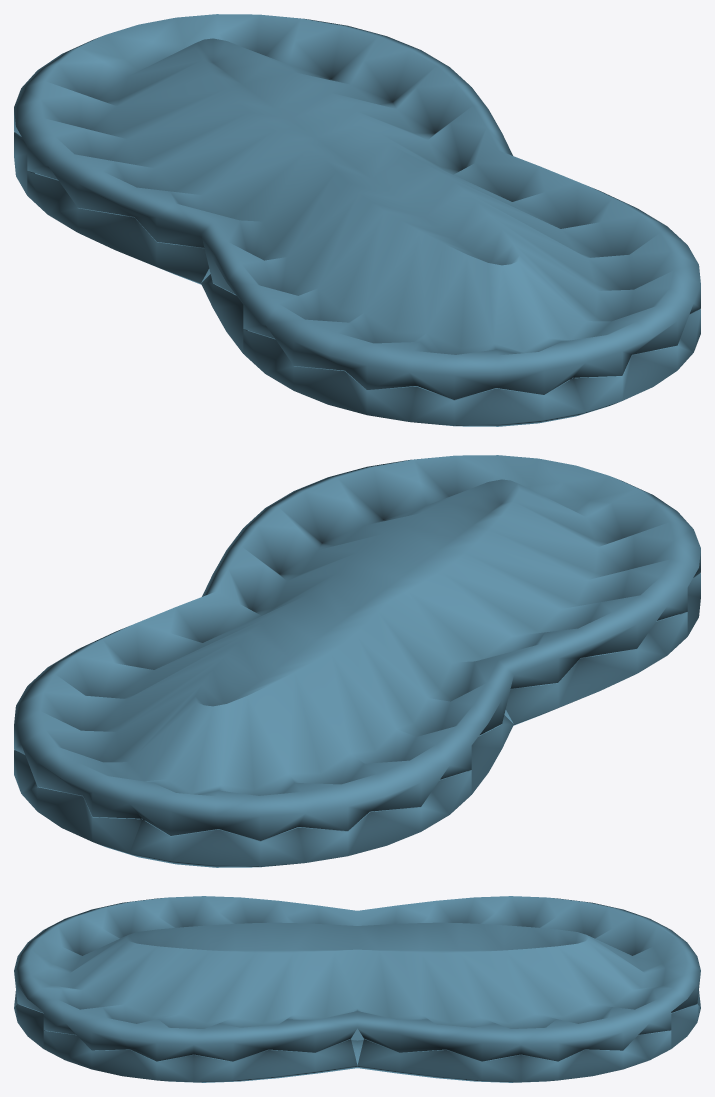
Rendered from microscopic-plankton-pennate-diatom_v1.glb.
3 views of the same model, one above another, from view 1: azimuth 30°, elevation 25°; view 2: azimuth 150°, elevation 25°; view 3: azimuth 270°, elevation 25° (orthographic). The views are drawn at different scales.
Parts seen in each view (by area): view 1: Pennate Diatom; view 2: Pennate Diatom; view 3: Pennate Diatom.
Boxes of the visible parts, x1,y1,x2,y2 form: Pennate Diatom: (14, 14, 700, 426); Pennate Diatom: (14, 455, 700, 867); Pennate Diatom: (14, 896, 700, 1082).
Size of the model in its own units: 0.2544 by 0.0829 by 0.5.
